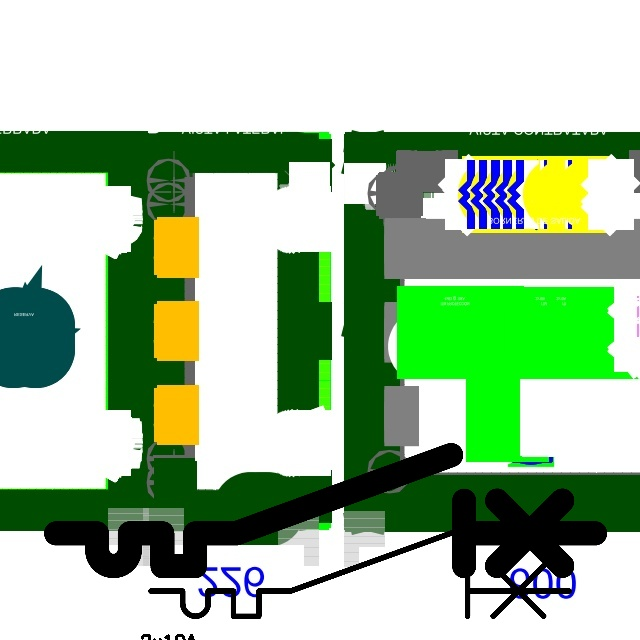interruptor_termomagnetico: (42, 441, 609, 580), (140, 520, 580, 627)
